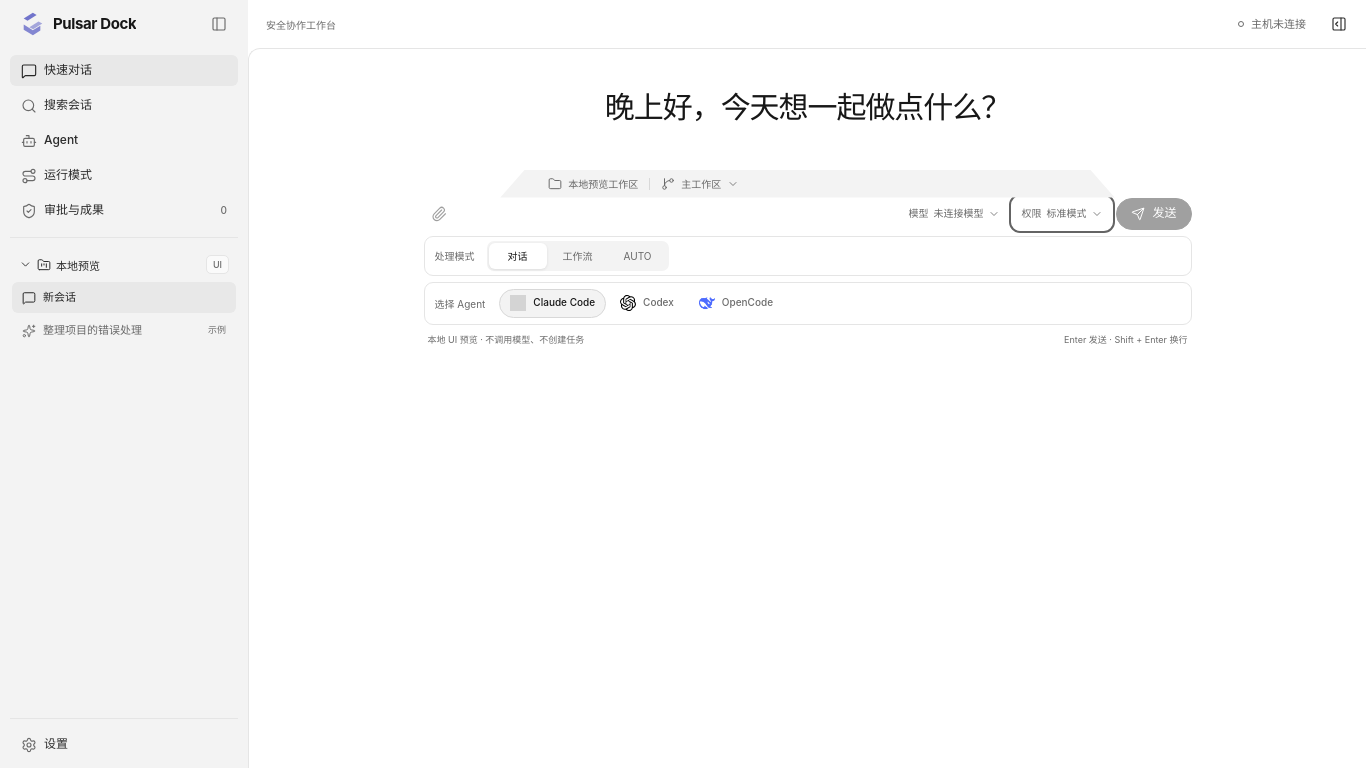
Scenario: Gold-Band style desktop chat › uses local-only model and approval controls without changing real policy
Press Enter
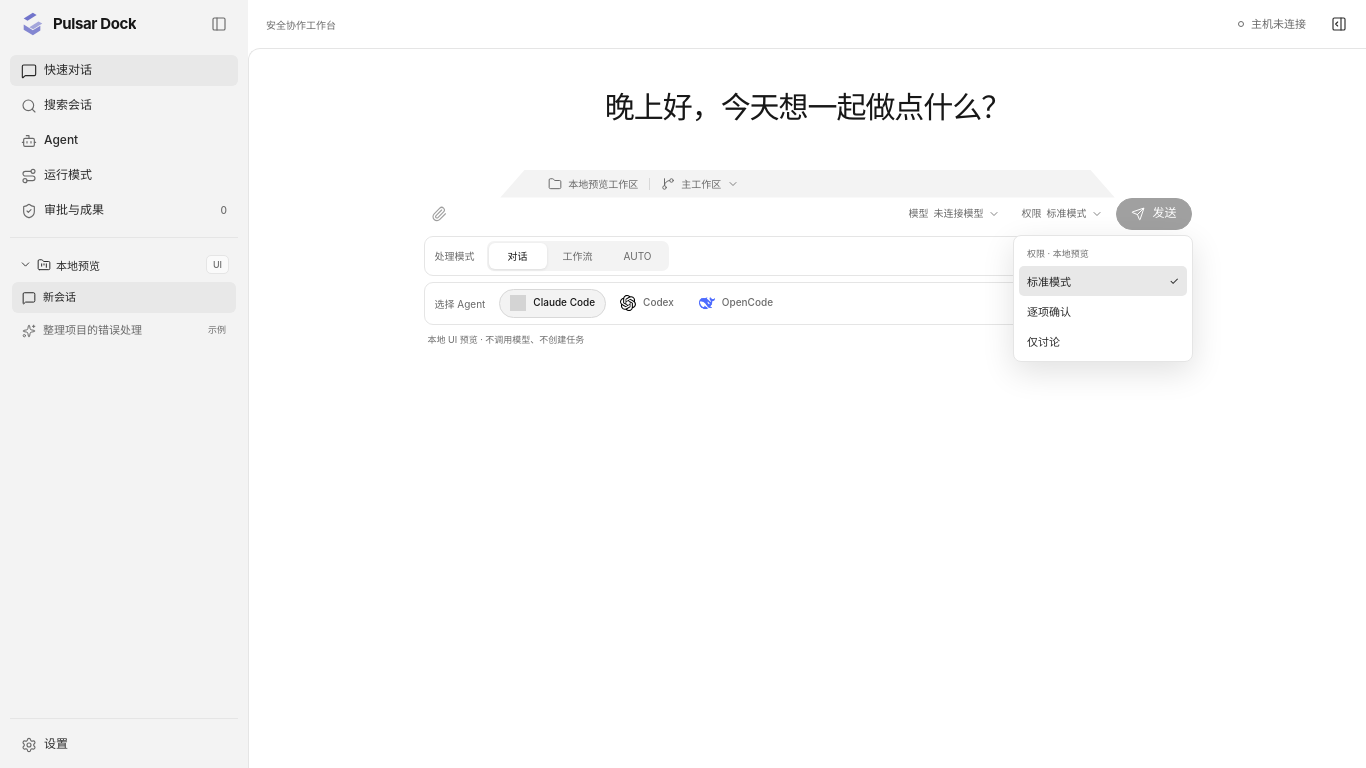
Check: the menu shows "权限 · 本地预览", box [1013,235,1193,362]
Click the menu item "逐项确认" at (1049, 312), box [1027,305,1071,319]
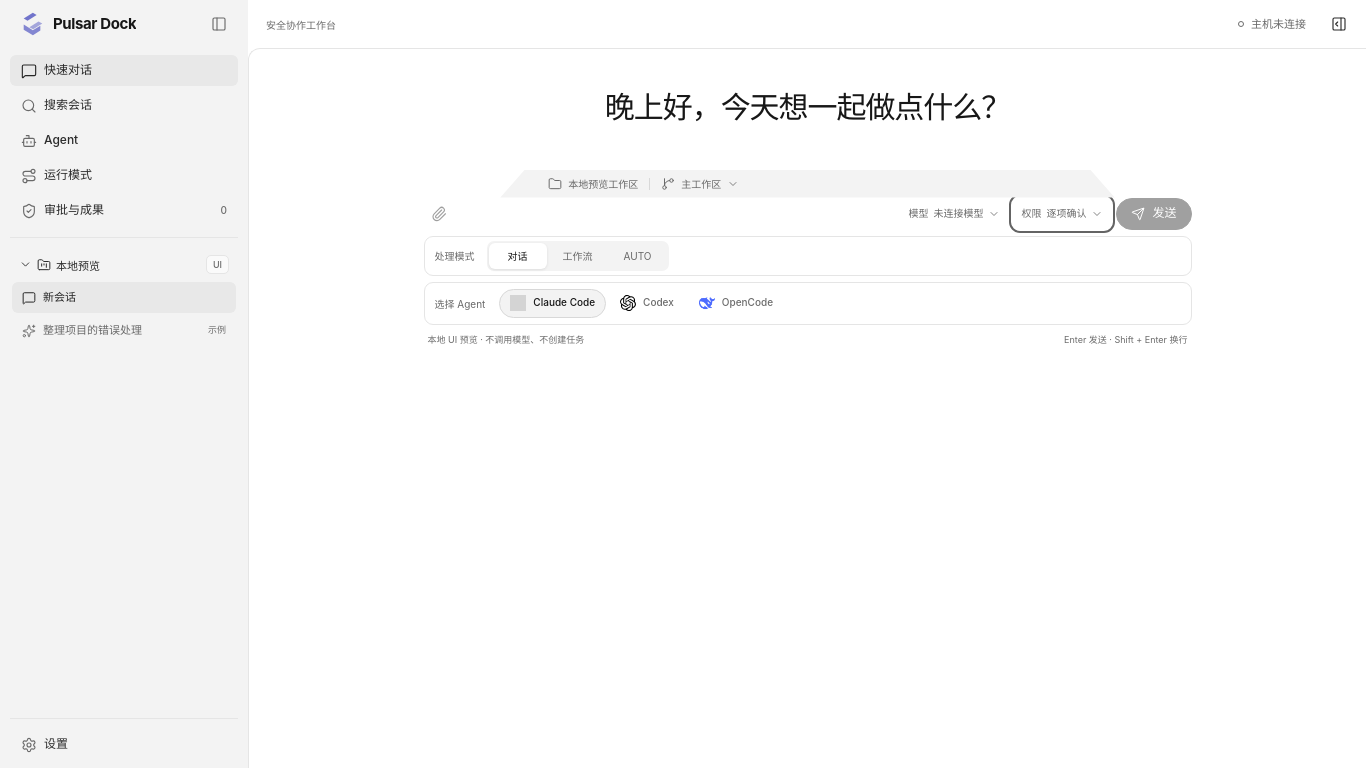
Check: the text "本地 UI 预览 · 不调用模型、不创建任务" is shown, box [428,332,584,346]
Check: the button with aria-label "权限：逐项确认" is shown, box [1014,198,1112,229]
